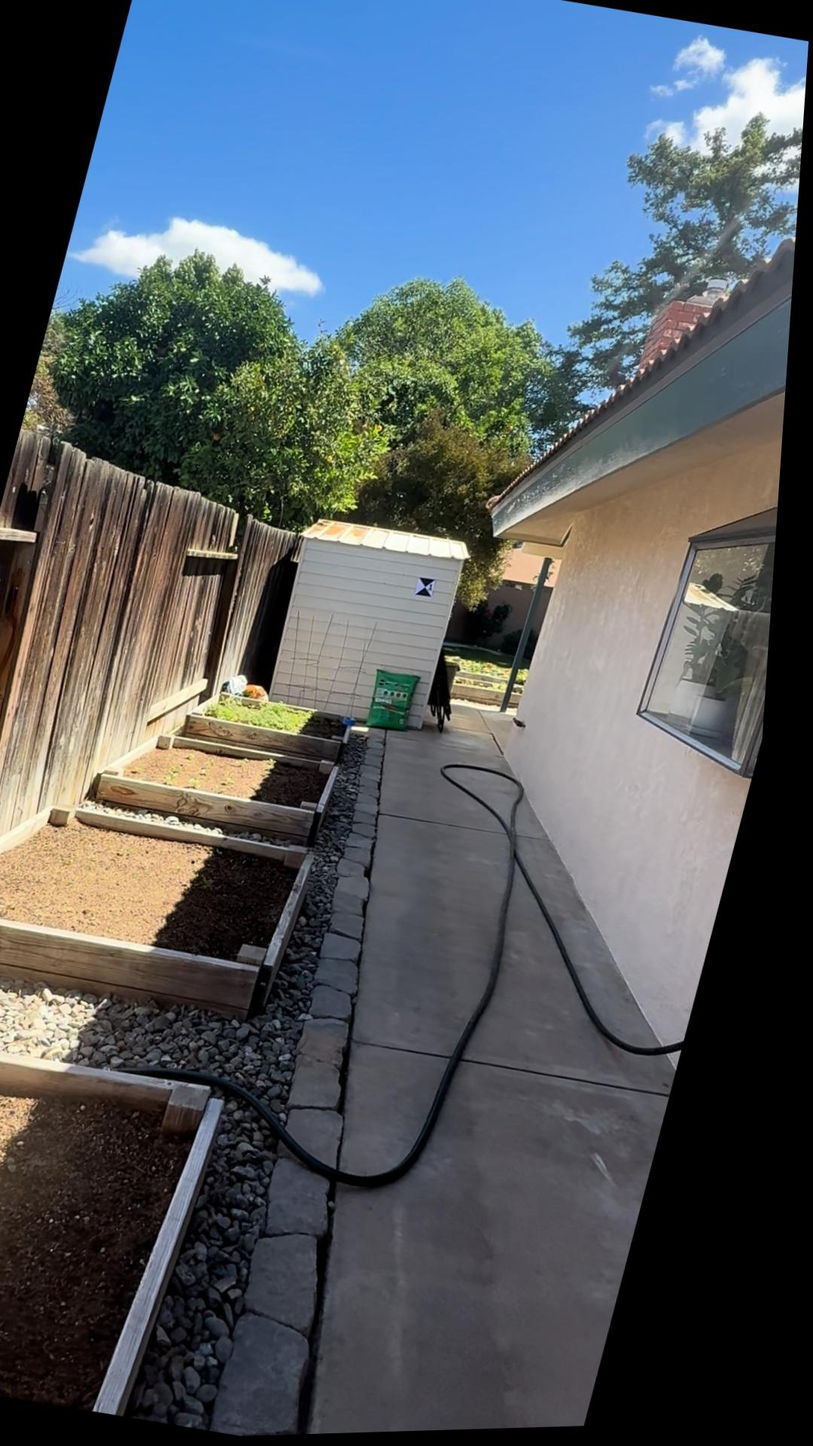target1: (414, 575, 438, 598)
